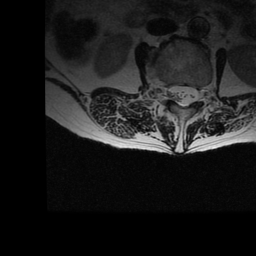CCS_normal: (178, 75, 187, 116)
LFS_normal: (197, 79, 208, 109)
LLS_normal: (187, 75, 197, 111)
RFS_normal: (160, 71, 169, 110)
RLS_normal: (169, 76, 178, 109)
